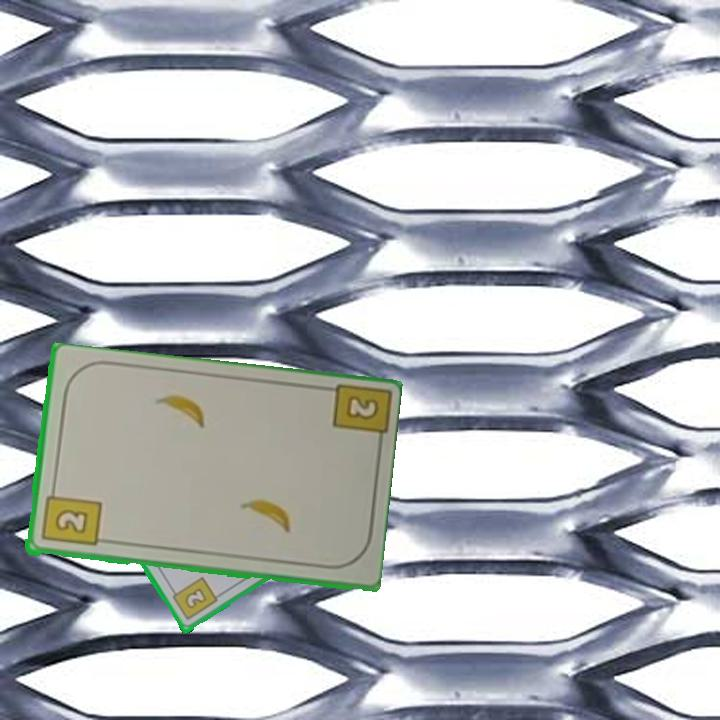2b: (37, 483, 103, 549), (167, 574, 220, 623), (342, 392, 382, 423)
